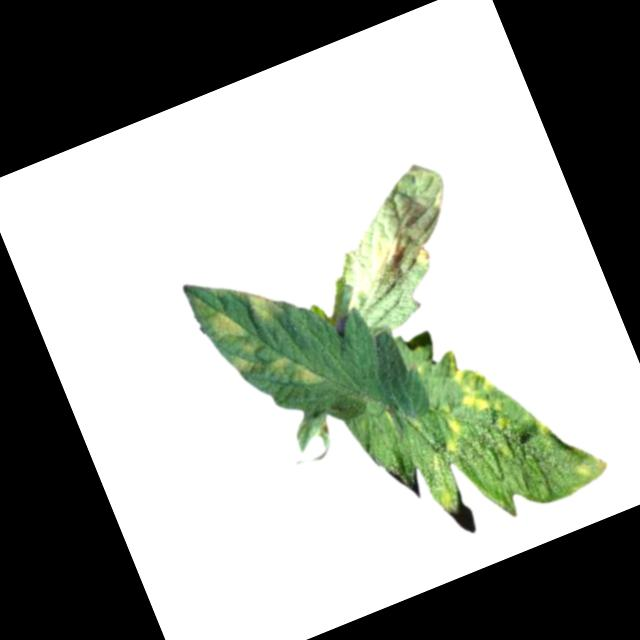Leaf_Mold: (444, 339, 513, 421), (357, 221, 432, 286), (266, 342, 329, 399), (200, 296, 254, 350), (241, 275, 290, 327), (559, 450, 612, 494), (433, 410, 471, 459), (227, 343, 264, 379)
